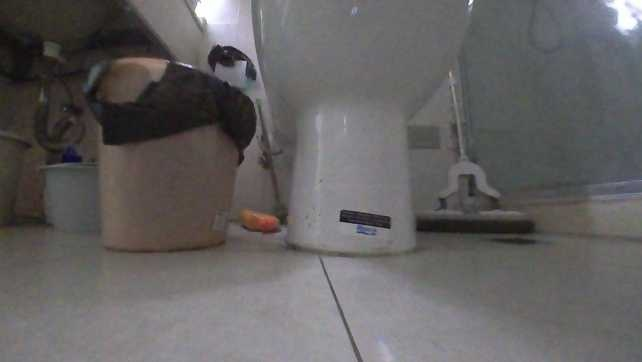toilet: (247, 0, 471, 259)
trash_can: (82, 55, 258, 253)
